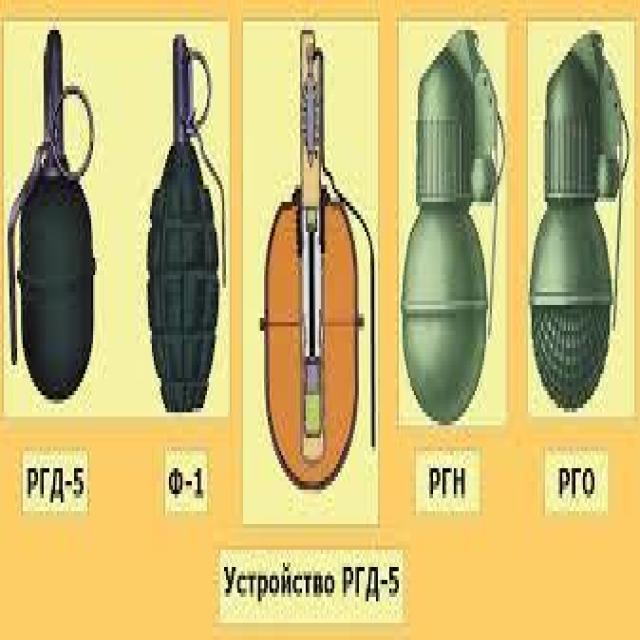grenade: (261, 25, 377, 502), (401, 26, 505, 421), (528, 28, 630, 414), (8, 23, 98, 414), (147, 30, 227, 417)
